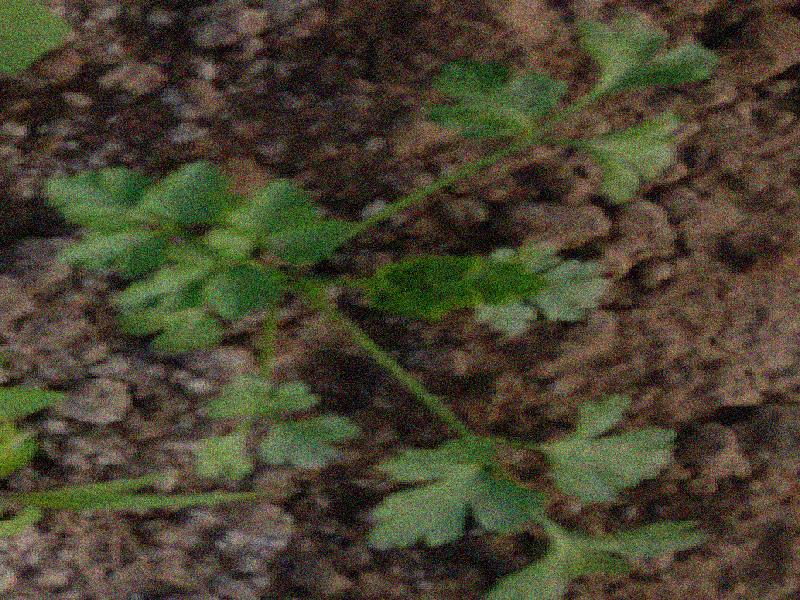radish: (36, 13, 781, 547)
